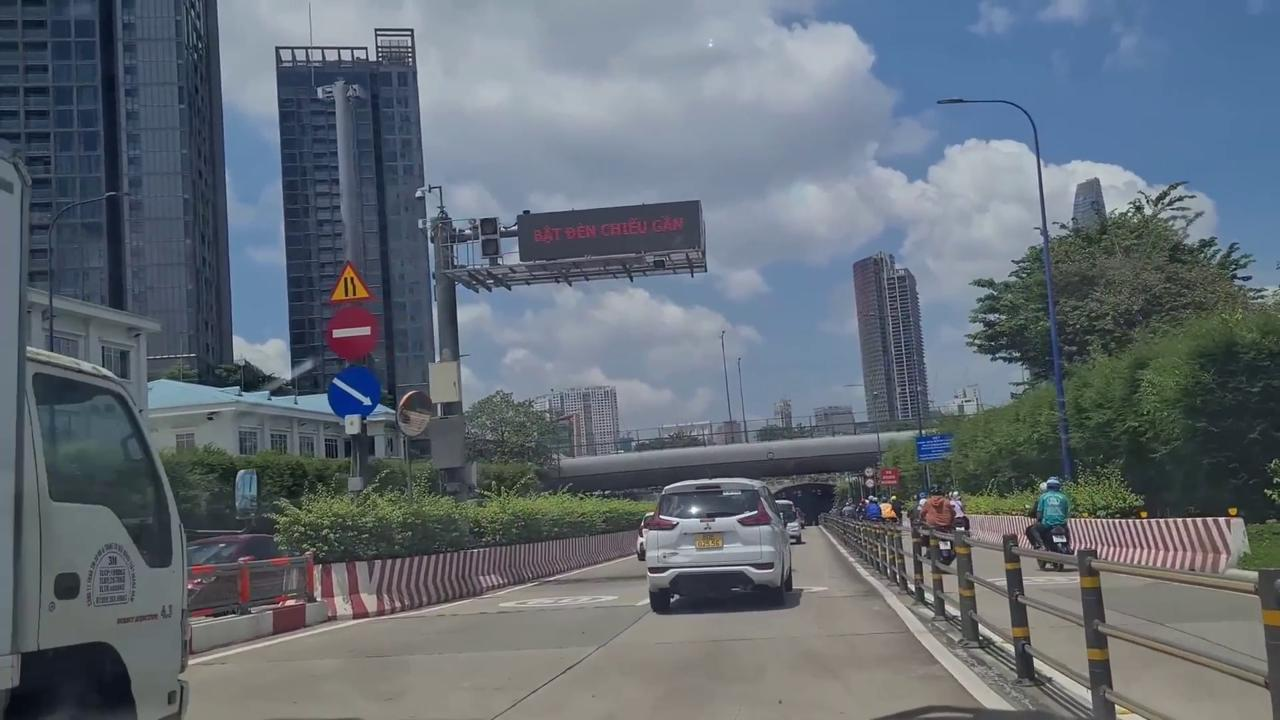Cấm đi ngược chiều: (325, 305, 379, 363)
Hướng phải đi vòng sang phải: (328, 366, 382, 421)
Đuờng hẹp: (327, 260, 375, 304)
